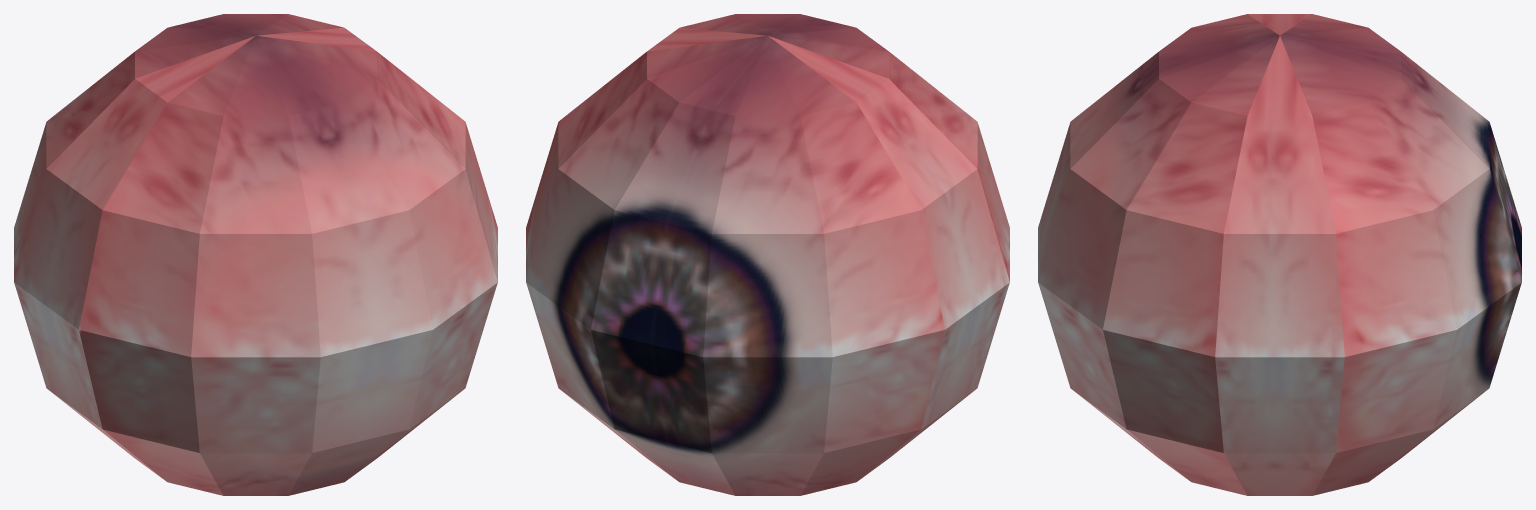
Rendered from eyeglb.glb.
3 renders of one model, left to right at view 1: azimuth 30°, elevation 25°; view 2: azimuth 150°, elevation 25°; view 3: azimuth 270°, elevation 25°, orthographic.
Parts seen in each view (by area): view 1: eyeball; view 2: eyeball; view 3: eyeball.
Part boxes in pixels (x1=…): eyeball: x1=14, y1=14, x2=497, y2=495; eyeball: x1=526, y1=14, x2=1009, y2=495; eyeball: x1=1038, y1=14, x2=1521, y2=495.
Size of the model in its own units: 1 by 1 by 1.
1 material, 1 textured.
